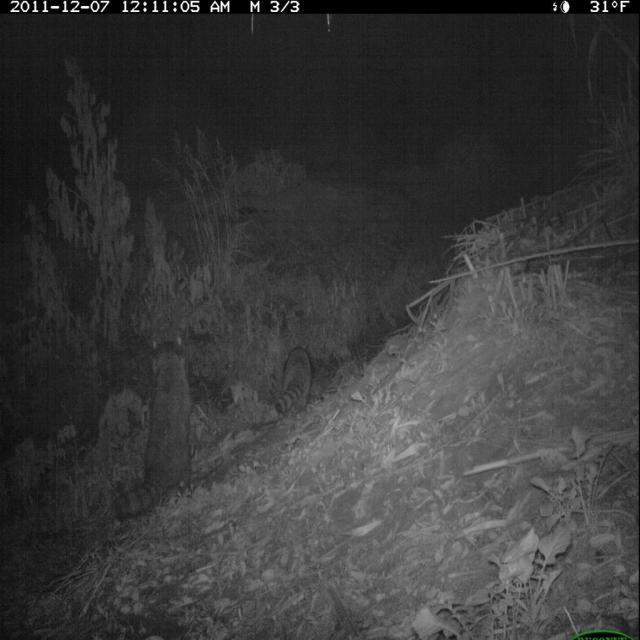raccoon: (109, 332, 200, 529), (272, 334, 321, 430)
